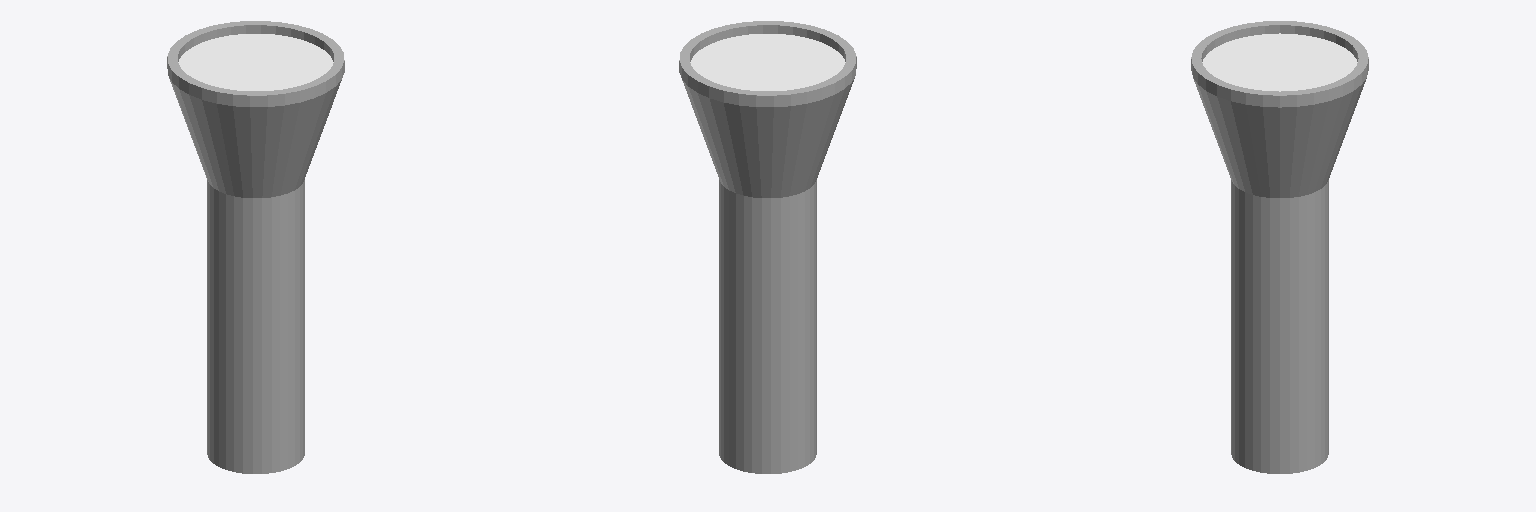
File: lamppu.obj
3 renders of one model, left to right at view 1: azimuth 30°, elevation 25°; view 2: azimuth 150°, elevation 25°; view 3: azimuth 270°, elevation 25°, orthographic.
Parts seen in each view (by area): view 1: cylinder1; view 2: cylinder1; view 3: cylinder1.
Boxes of the visible parts, x1=… form: cylinder1: x1=167, y1=21, x2=344, y2=473; cylinder1: x1=679, y1=21, x2=856, y2=473; cylinder1: x1=1191, y1=21, x2=1368, y2=473.
Size of the model in its own units: 1.13 by 2.78 by 1.13.